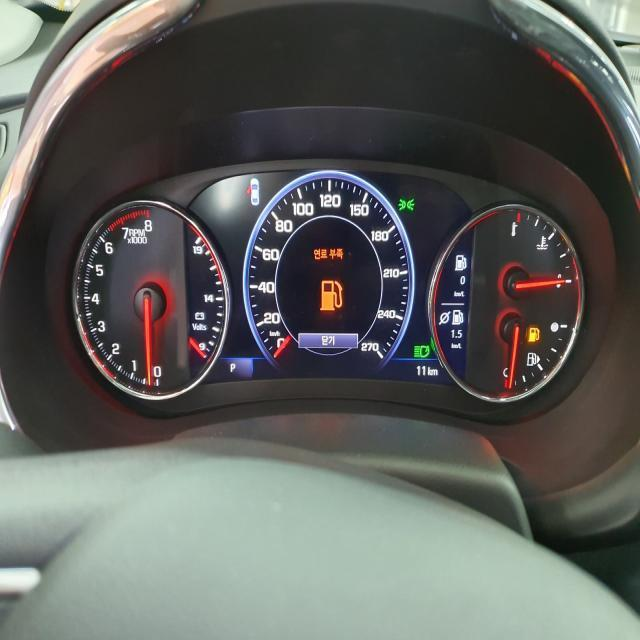Low fuel level: (318, 278, 342, 312), (527, 325, 539, 342)
SideLamp: (396, 196, 414, 210)
